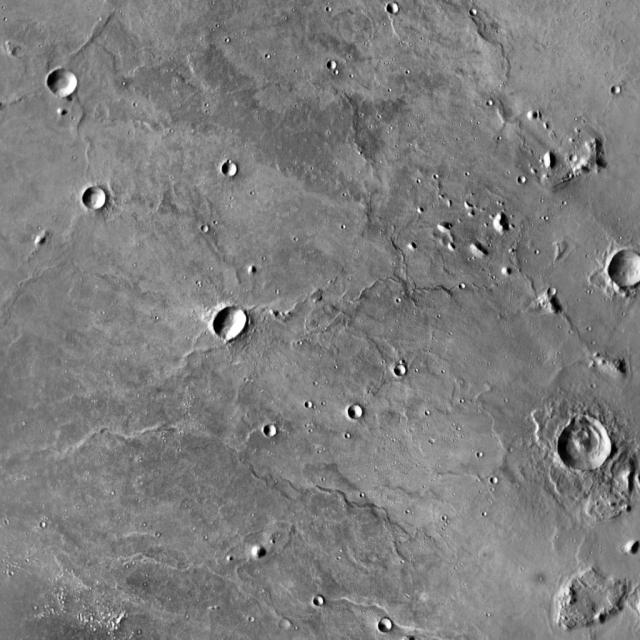crater: (559, 421, 613, 474), (215, 308, 250, 342), (610, 253, 640, 291), (50, 70, 79, 99), (84, 188, 107, 210), (349, 406, 364, 422), (222, 162, 236, 177), (378, 620, 392, 634), (279, 619, 292, 632), (397, 366, 409, 378), (388, 4, 400, 16), (266, 426, 278, 438), (612, 88, 622, 98), (315, 597, 325, 607), (518, 177, 528, 186), (329, 61, 338, 70), (202, 225, 210, 234), (492, 478, 500, 486), (549, 288, 557, 296), (570, 156, 579, 163), (304, 402, 312, 409), (472, 8, 479, 16), (480, 93, 488, 100), (454, 276, 461, 283), (249, 617, 255, 623)
